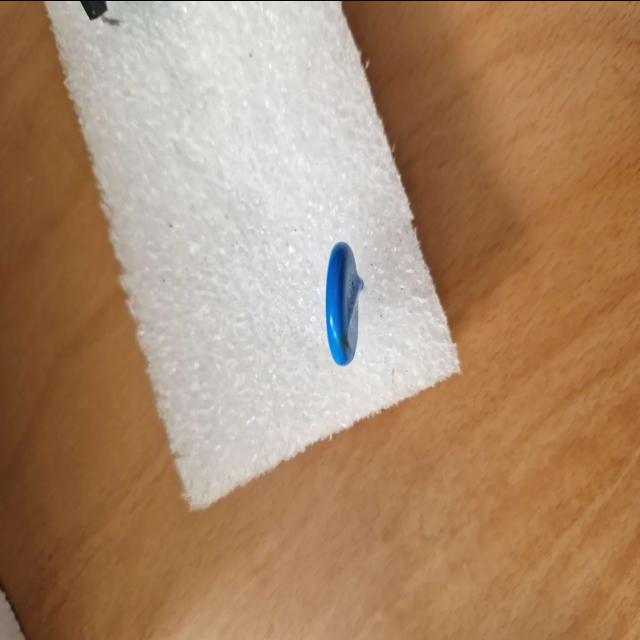E: (326, 243, 364, 364)
